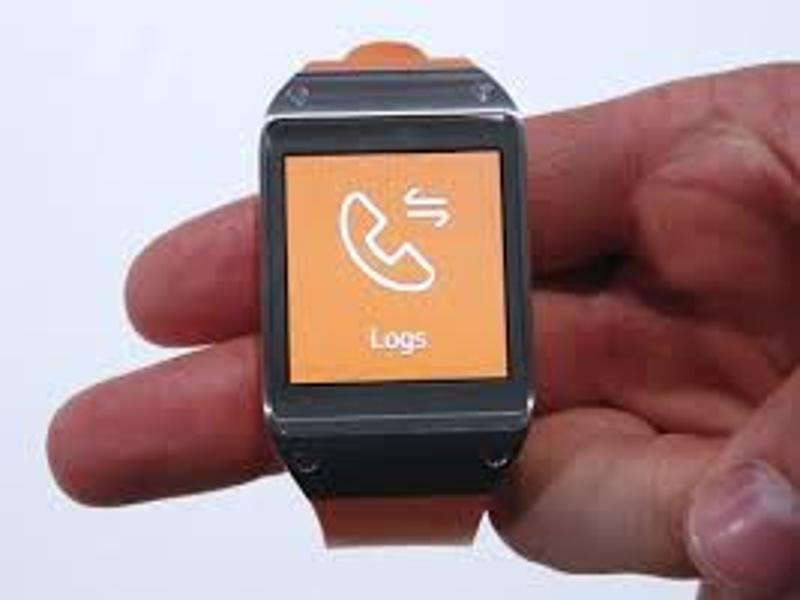watch: (260, 37, 535, 553)
